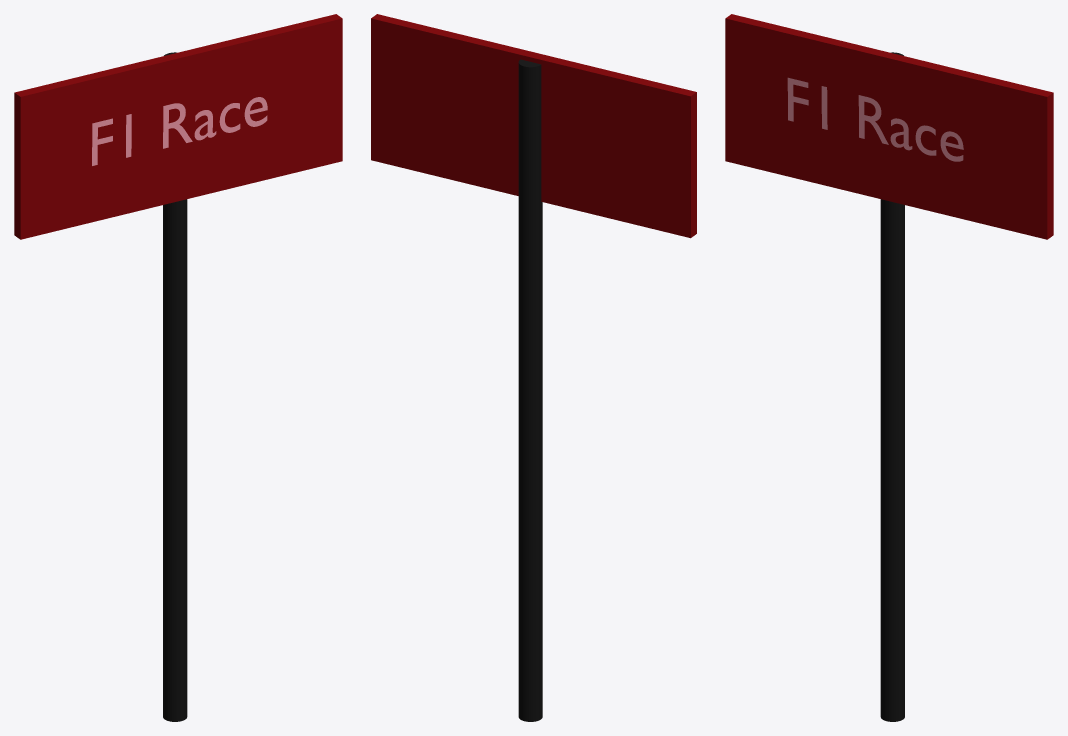
File: board.obj
3 views of the same model, side by side, from view 1: azimuth 30°, elevation 25°; view 2: azimuth 150°, elevation 25°; view 3: azimuth 330°, elevation 25° (orthographic).
Visible parts, largest first — view 1: Cubo, Cilindro, Texto; view 2: Cubo, Cilindro; view 3: Cubo, Cilindro, Texto.
Part boxes in pixels (x1,y1,x2,y2): Cubo: (14, 14, 342, 239); Cilindro: (163, 52, 187, 721); Texto: (92, 97, 267, 165); Cubo: (371, 14, 696, 238); Cilindro: (518, 59, 542, 721); Cubo: (725, 14, 1053, 239); Cilindro: (880, 52, 904, 721); Texto: (787, 77, 963, 161).
Size of the model in its own units: 6.13 by 12.08 by 0.57.
